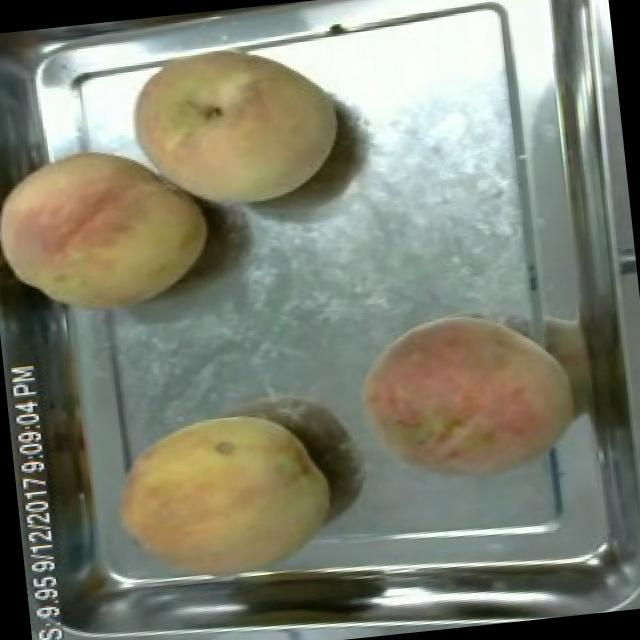Fruit: (93, 392, 349, 598), (342, 294, 590, 496), (114, 21, 356, 227), (0, 127, 224, 331)
